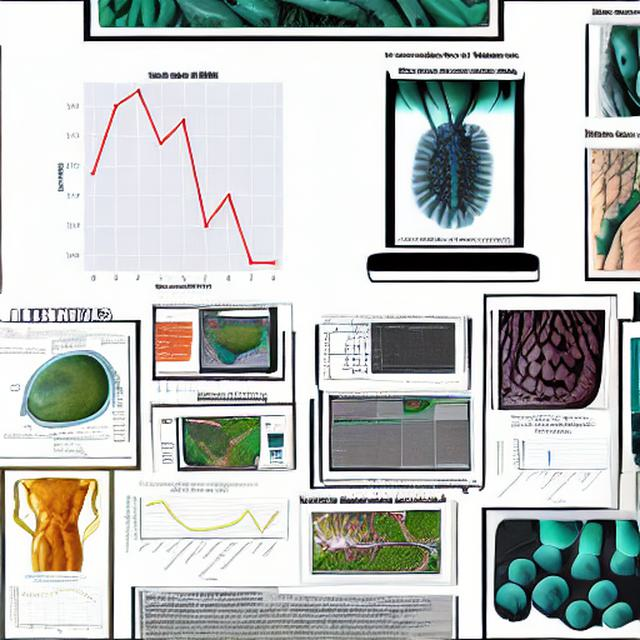Graph: (1, 53, 357, 298), (121, 478, 287, 584), (498, 414, 607, 505), (6, 573, 105, 636), (373, 325, 455, 374)
